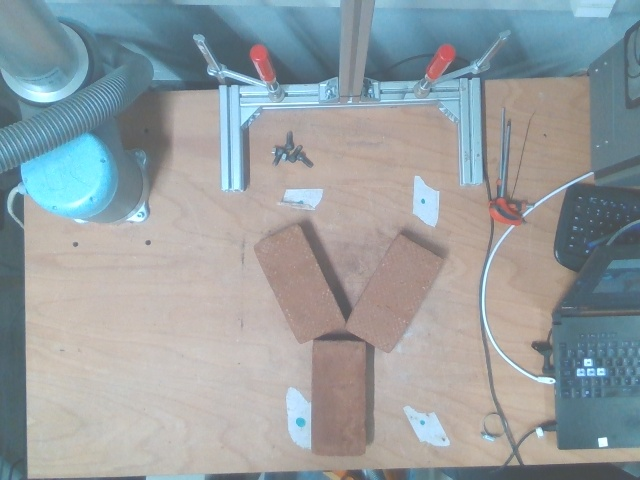brick: (344, 234, 445, 352), (251, 222, 346, 345), (312, 340, 367, 454)
